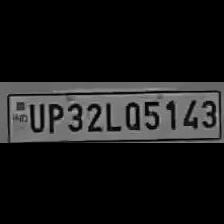1: (162, 96, 178, 130)
2: (84, 98, 104, 132)
3: (198, 94, 218, 128), (64, 98, 82, 132)
4: (179, 96, 199, 128)
5: (140, 96, 162, 130)
L: (101, 97, 119, 131)
P: (44, 99, 64, 133)
Q: (121, 97, 141, 130)
U: (26, 100, 44, 132)
